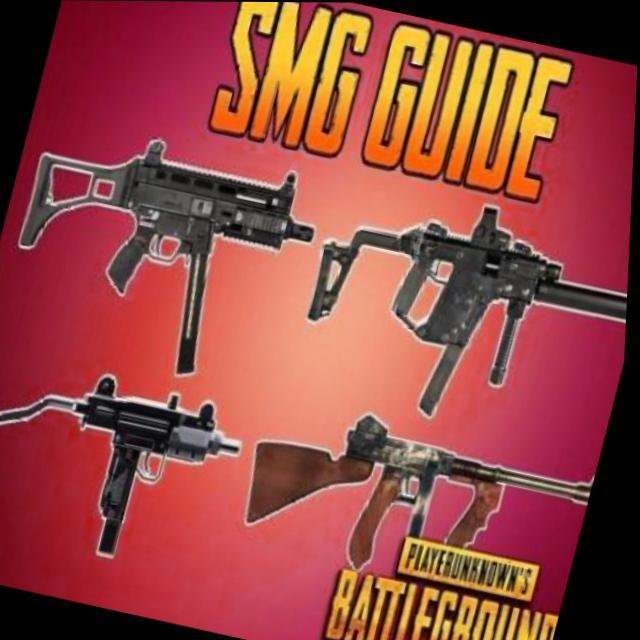weapon: (284, 168, 634, 454), (0, 111, 333, 396), (230, 388, 604, 614), (0, 344, 258, 579)
